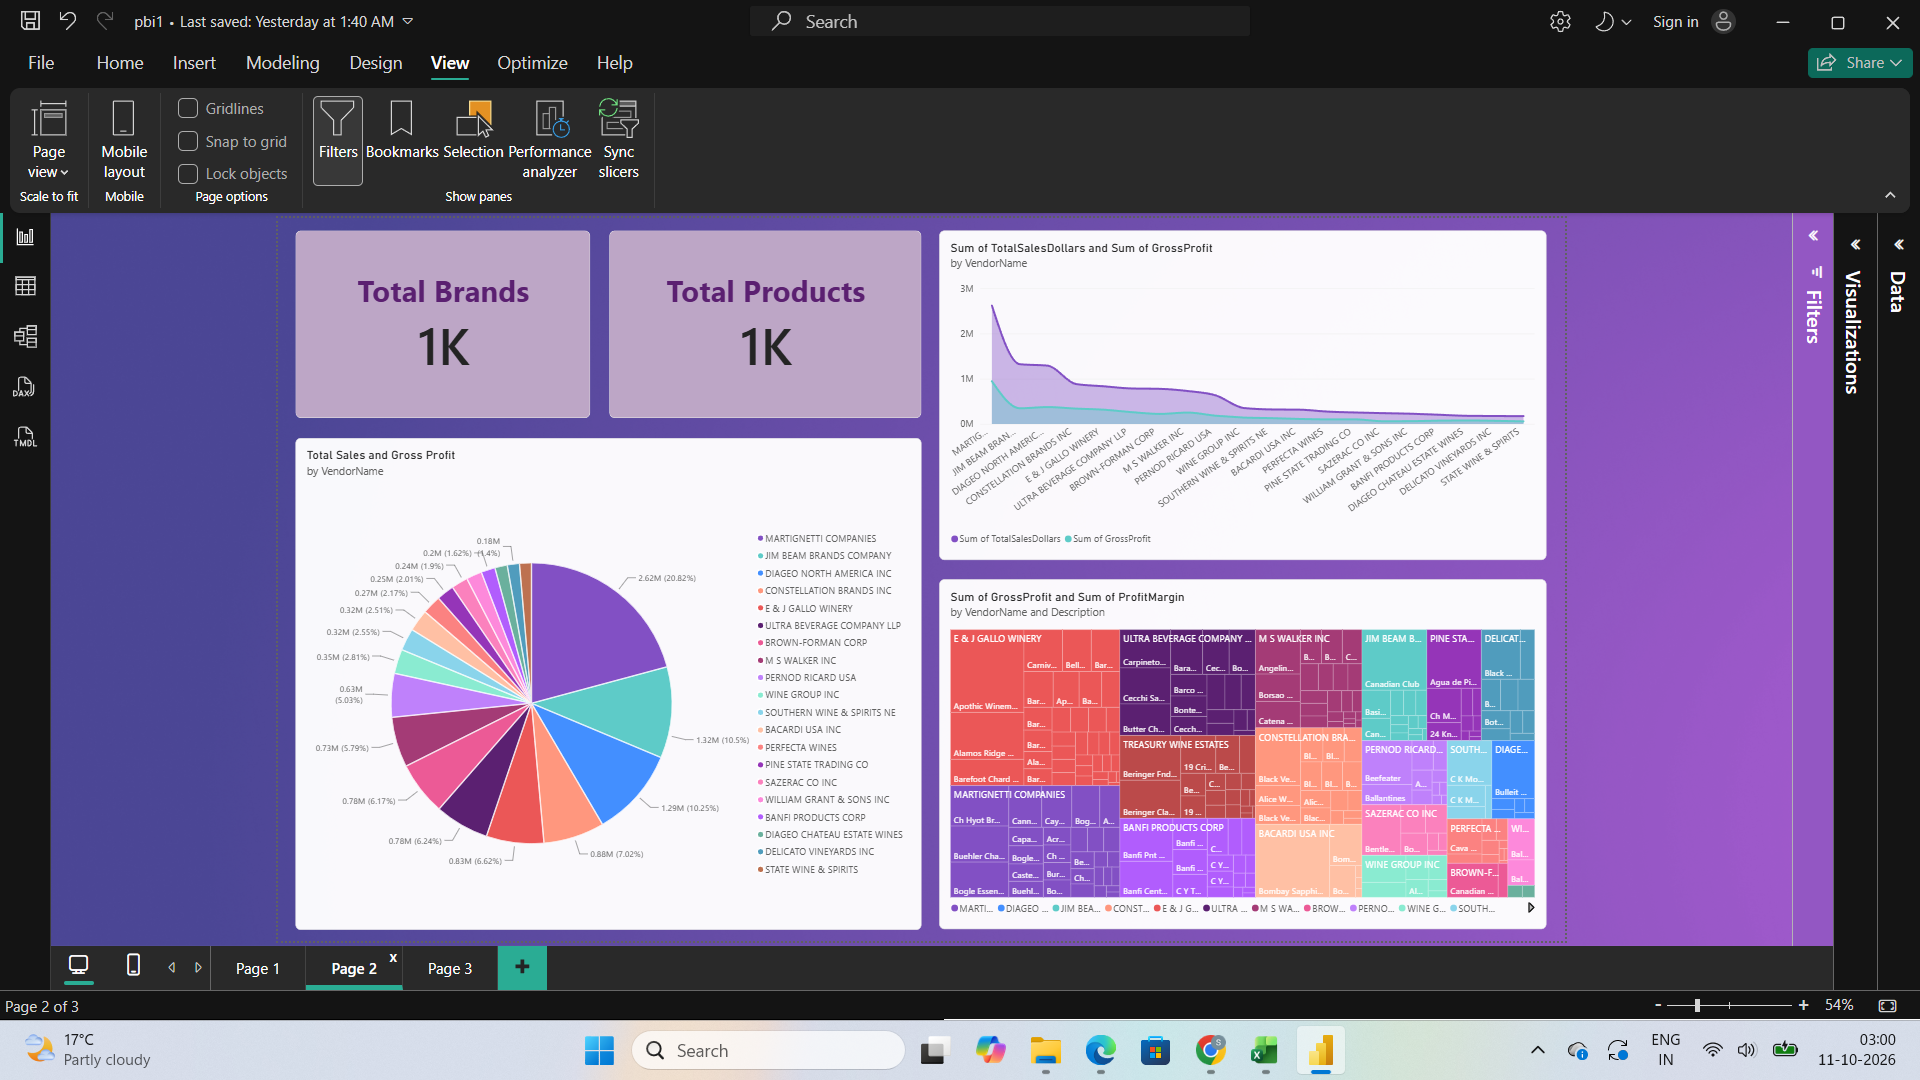

The page's visual inventory and layout, read from the dashboard file:
{"tool":"powerbi","page":{"name":"Page 2","canvas":[1920,1080],"ordinal":1},"visuals":[{"type":"cardVisual","fields":{"Data":["final_table_3.Total Brands"]},"box":[26,18,440,280],"z":0},{"type":"cardVisual","fields":{"Data":["final_table_3.Total Products"]},"box":[494,18,466,280],"z":1000},{"type":"pieChart","fields":{"Category":["final_table_3.VendorName"],"Y":["final_table_3.Total Sales"]},"box":[26,328,934,734],"z":2000},{"type":"areaChart","fields":{"Category":["final_table_3.VendorName"],"Y":["Sum(final_table_3.TotalSalesDollars)","Sum(final_table_3.GrossProfit)"]},"box":[988,18,906,492],"z":3000},{"type":"treemap","fields":{"Details":["final_table_3.Description"],"Group":["final_table_3.VendorName"],"Values":["Sum(final_table_3.GrossProfit)"]},"box":[988,540,906,522],"z":4000}]}

Visuals, with their boxes on the page's 1920x1080 design canvas (x1, y1, x2, y2). These are canvas units, not pixel positions in the 1920x1080 screenshot, which may show the page scaled, cropped or inside an application window:
cardVisual - final_table_3.Total Brands: box=[26, 18, 466, 298]
cardVisual - final_table_3.Total Products: box=[494, 18, 960, 298]
pieChart - final_table_3.VendorName x final_table_3.Total Sales: box=[26, 328, 960, 1062]
areaChart - final_table_3.VendorName x Sum(final_table_3.TotalSalesDollars): box=[988, 18, 1894, 510]
treemap - final_table_3.Description x final_table_3.VendorName: box=[988, 540, 1894, 1062]
